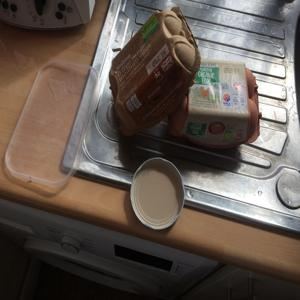cardboard: (106, 5, 201, 134), (170, 53, 272, 154)
metal: (124, 147, 189, 235)
plastic: (2, 57, 103, 194)
